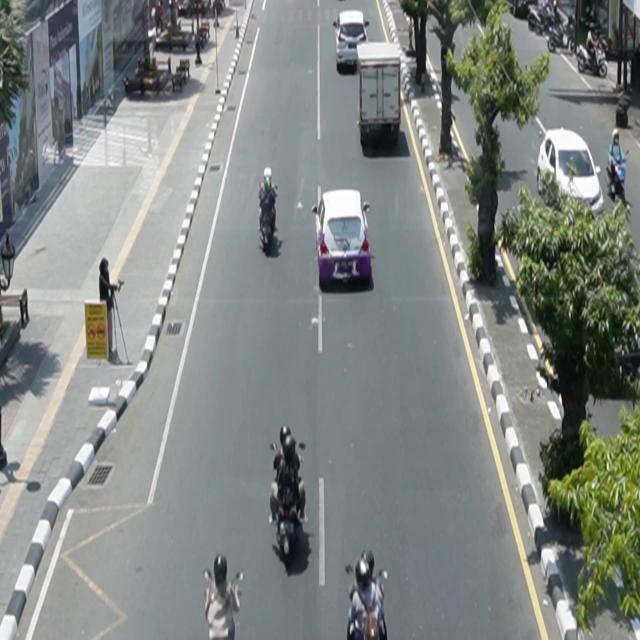car: (537, 127, 605, 221), (312, 189, 373, 289), (333, 10, 371, 73)
truck: (357, 42, 403, 147)
